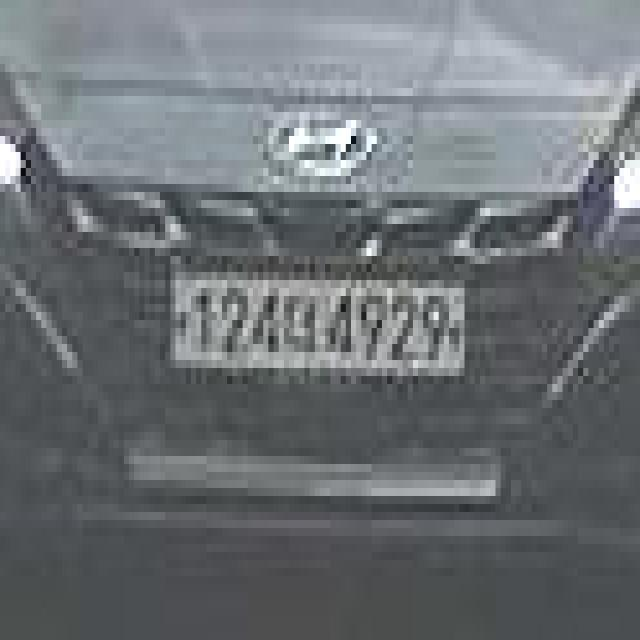illegal_plate: (164, 262, 472, 393)
